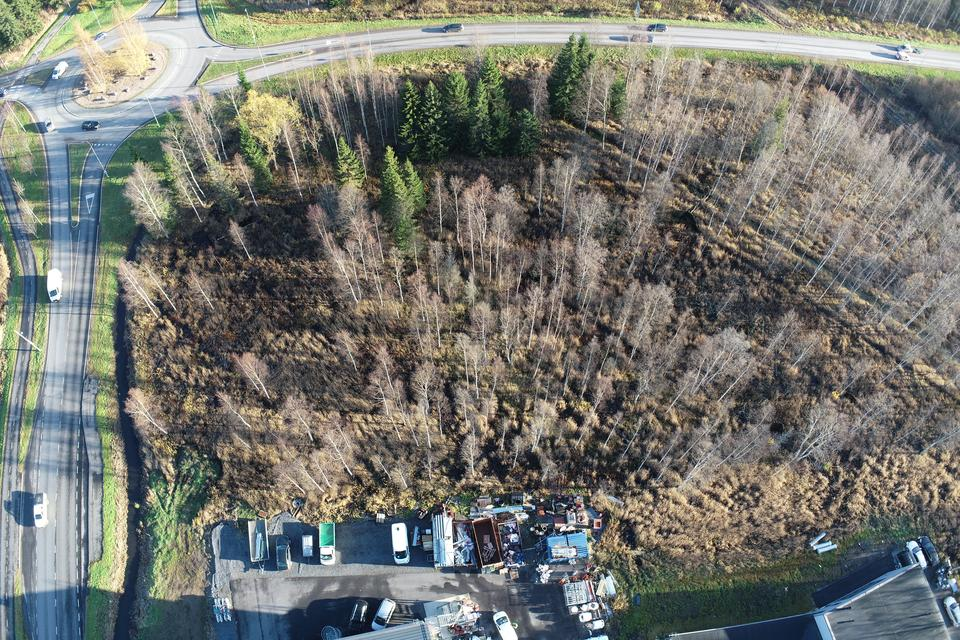intersection: (0, 60, 32, 117)
roundabout: (35, 5, 240, 161)
